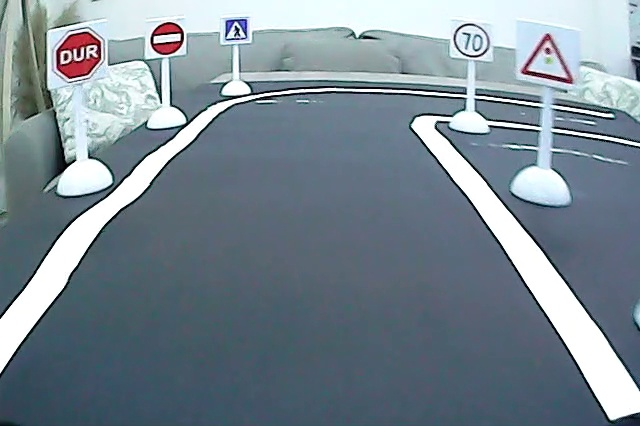do not enter: (148, 18, 186, 58)
pedestrian crossing: (221, 16, 249, 43)
red light: (515, 27, 579, 89)
speed limit 70: (452, 20, 492, 60)
stop sign: (50, 26, 107, 84)
